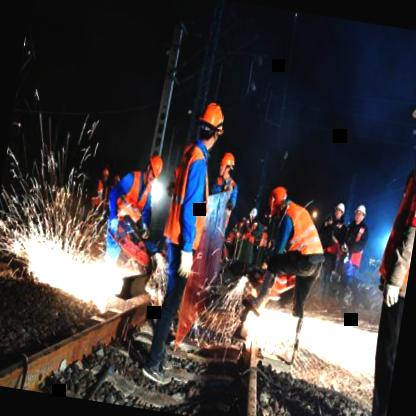helmet: (192, 94, 230, 152), (264, 180, 294, 219), (140, 149, 168, 187), (216, 145, 239, 180), (408, 75, 416, 138), (330, 197, 348, 224), (351, 201, 368, 226)
